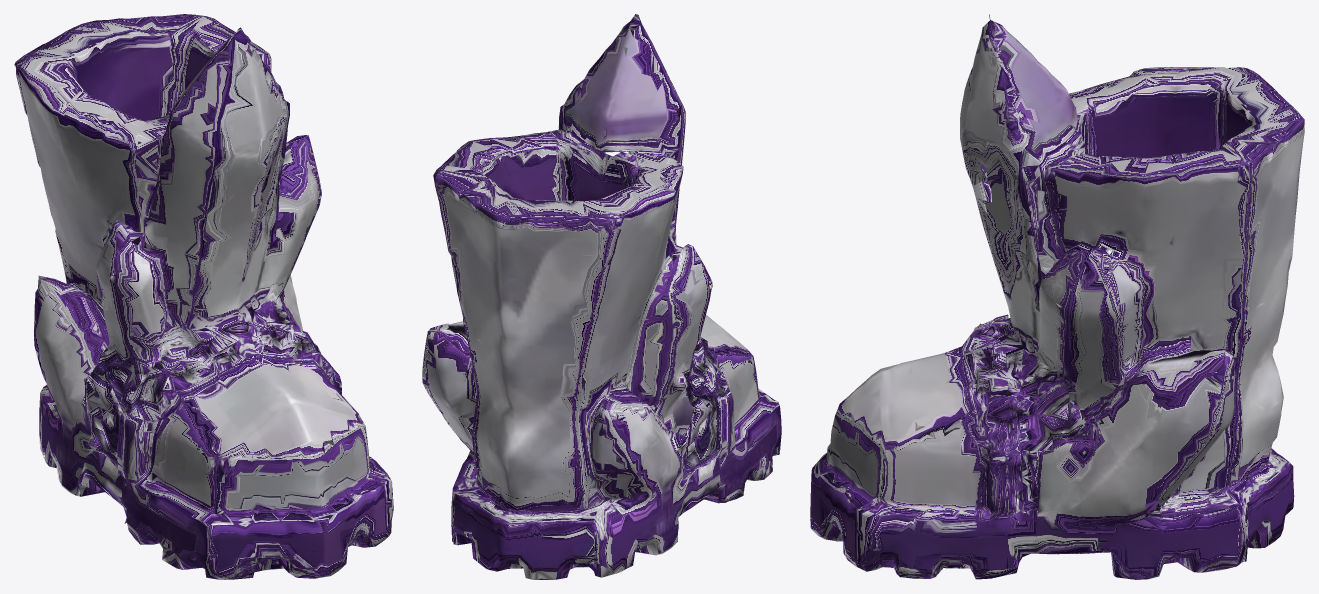
Rendered from amethyst_boot_B.glb.
The picture shows the model from 3 angles, left to right: view 1: azimuth 30°, elevation 25°; view 2: azimuth 150°, elevation 25°; view 3: azimuth 270°, elevation 25°; orthographic projection. The views are drawn at different scales.
Size of the model in its own units: 0.1725 by 0.3361 by 0.2899.
Materials: 1 (1 with a texture image).
